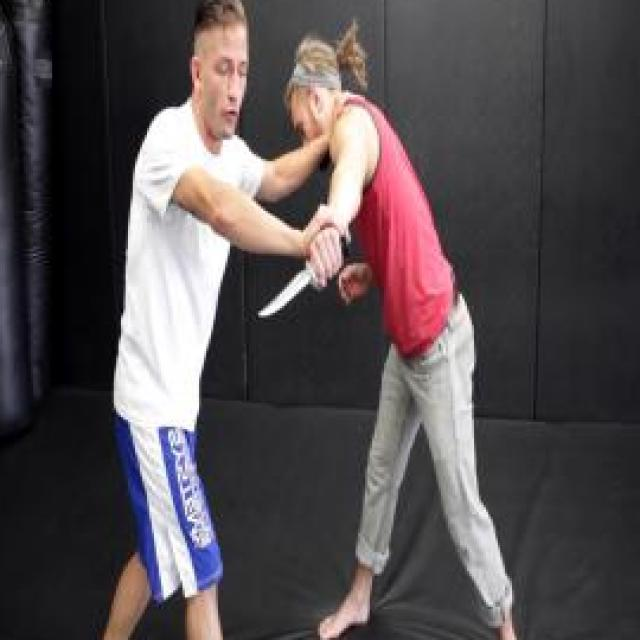knife: (253, 225, 353, 332)
